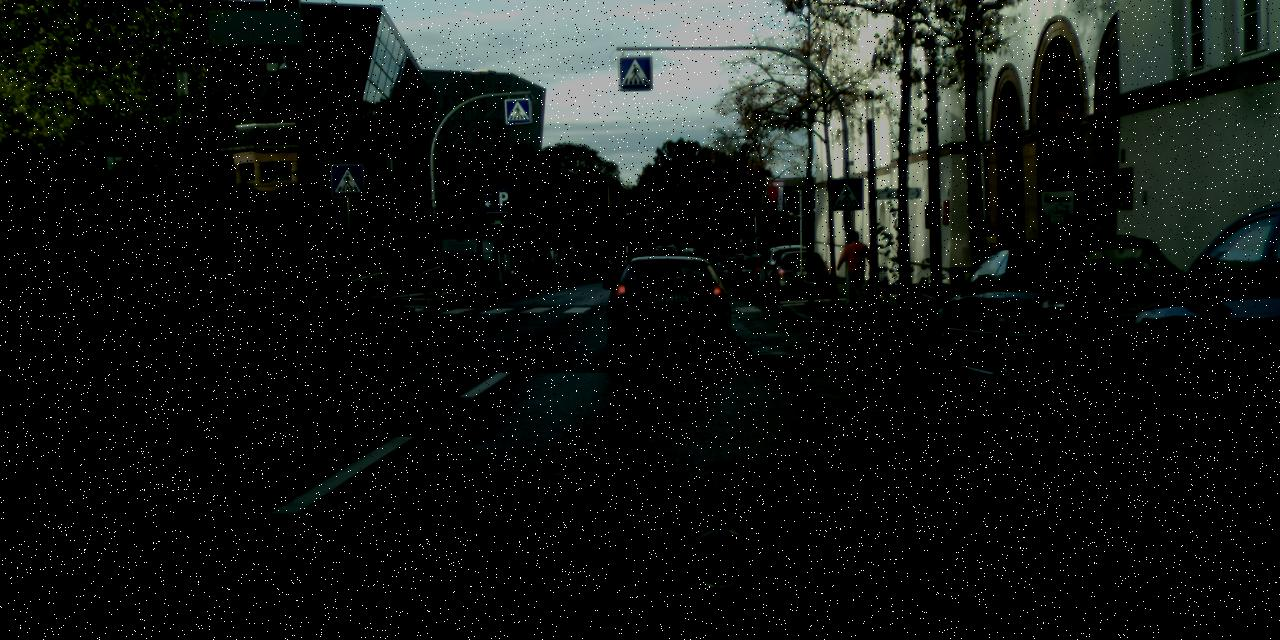ped: (839, 230, 872, 310)
